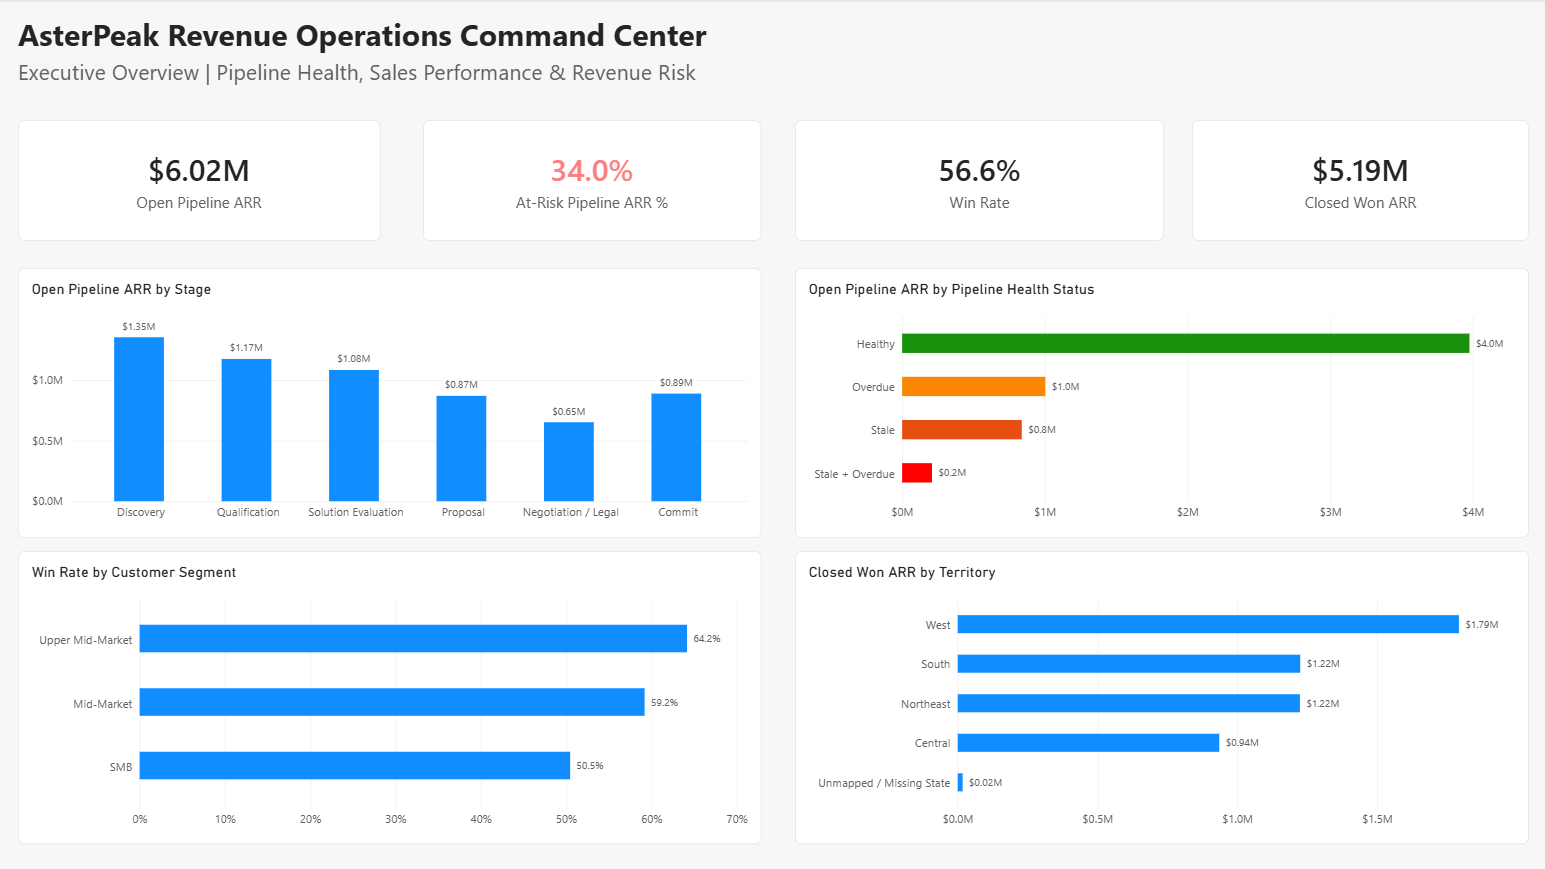

The dashboard page shown, as its layout file describes it:
{"tool":"powerbi","page":{"name":"Executive Overview","canvas":[1920,1080],"ordinal":0},"visuals":[{"type":"card","fields":{"Values":["_Measures.Open Pipeline ARR"]},"box":[24.4,149.8,449.5,149.8],"z":0},{"type":"card","fields":{"Values":["_Measures.Win Rate"]},"box":[989.6,149.8,458.2,149.8],"z":1000},{"type":"card","fields":{"Values":["_Measures.Closed Won ARR"]},"box":[1482.7,149.8,418.1,149.8],"z":2000},{"type":"card","fields":{"Values":["_Measures.Flagged Pipeline ARR Rate"]},"box":[527.9,149.8,419.9,149.8],"z":3000},{"type":"textbox","title":"AsterPeak Revenue Operations Command Center","box":[24.4,19.2,1156.9,130.7],"z":4000},{"type":"clusteredColumnChart","fields":{"Category":["Stage.Stage"],"Y":["_Measures.Open Pipeline ARR"]},"box":[24.4,334.5,923.4,334.5],"z":5000},{"type":"clusteredBarChart","fields":{"Category":["Opportunities.Pipeline Health Status"],"Y":["_Measures.Open Pipeline ARR"]},"box":[989.6,334.5,911.2,334.5],"z":6000},{"type":"clusteredBarChart","title":"Win Rate by Customer Segment","fields":{"Category":["Accounts.segment"],"Y":["_Measures.Win Rate"]},"box":[24.4,684.7,923.4,364.1],"z":7000},{"type":"clusteredBarChart","title":"Closed Won ARR by Territory","fields":{"Category":["Accounts.Derived Territory"],"Y":["_Measures.Closed Won ARR"]},"box":[989.6,684.7,911.2,364.1],"z":8000}]}

Visuals, with their boxes in screenshot pixels (x1, y1, x2, y2), scaled from the page's 1920x1080 canvas onto the 1545x869 screenshot:
card - _Measures.Open Pipeline ARR: pyautogui.locateOnScreen(20, 121, 381, 241)
card - _Measures.Win Rate: pyautogui.locateOnScreen(796, 121, 1165, 241)
card - _Measures.Closed Won ARR: pyautogui.locateOnScreen(1193, 121, 1530, 241)
card - _Measures.Flagged Pipeline ARR Rate: pyautogui.locateOnScreen(425, 121, 763, 241)
"AsterPeak Revenue Operations Command Center" textbox: pyautogui.locateOnScreen(20, 15, 951, 121)
clusteredColumnChart - Stage.Stage x _Measures.Open Pipeline ARR: pyautogui.locateOnScreen(20, 269, 763, 538)
clusteredBarChart - Opportunities.Pipeline Health Status x _Measures.Open Pipeline ARR: pyautogui.locateOnScreen(796, 269, 1530, 538)
"Win Rate by Customer Segment" clusteredBarChart: pyautogui.locateOnScreen(20, 551, 763, 844)
"Closed Won ARR by Territory" clusteredBarChart: pyautogui.locateOnScreen(796, 551, 1530, 844)
